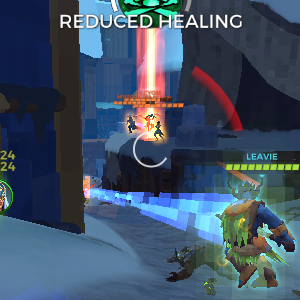model: (125, 113, 138, 134), (154, 119, 163, 144), (143, 114, 152, 134)
